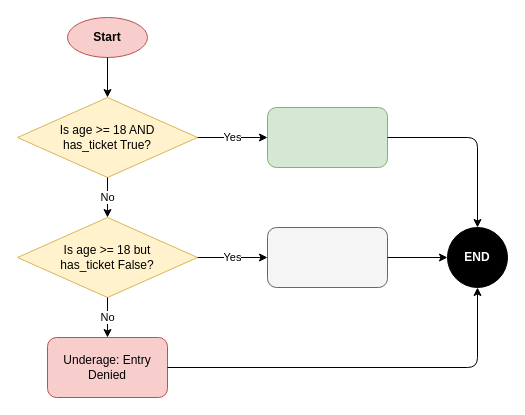
The diagram is 525 pixels wide and 415 high, and some of its shapes have lost their labels. Here are the shapes that lost their labels. From the top down, the centre of each, then its label:
the point at 327,137: Entry Allowed
the point at 327,257: Missing Ticket
